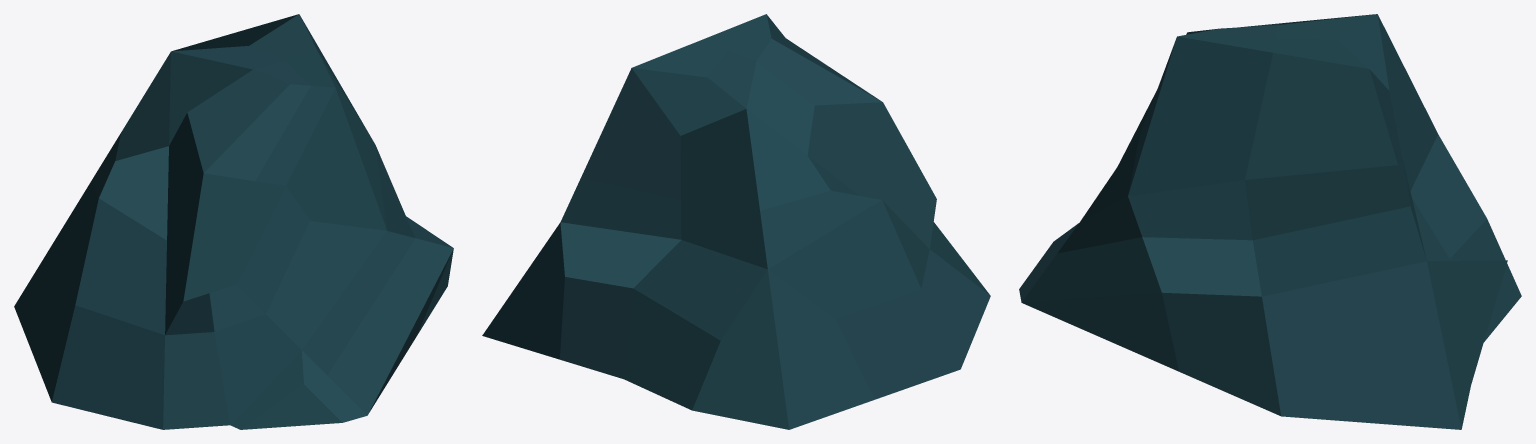
Rendered from Piedra_Central_FBX.fbx.
3 views of the same model, side by side, from view 1: azimuth 30°, elevation 25°; view 2: azimuth 150°, elevation 25°; view 3: azimuth 270°, elevation 25° (orthographic). The views are drawn at different scales.
Parts seen in each view (by area): view 1: Piedra_Central; view 2: Piedra_Central; view 3: Piedra_Central.
Part boxes in pixels (x1,y1,x2,y2): Piedra_Central: (14, 14, 453, 429); Piedra_Central: (482, 14, 990, 429); Piedra_Central: (1019, 14, 1521, 429).
Bounding box in the file's own units: 7.73 × 5.13 × 7.57.
